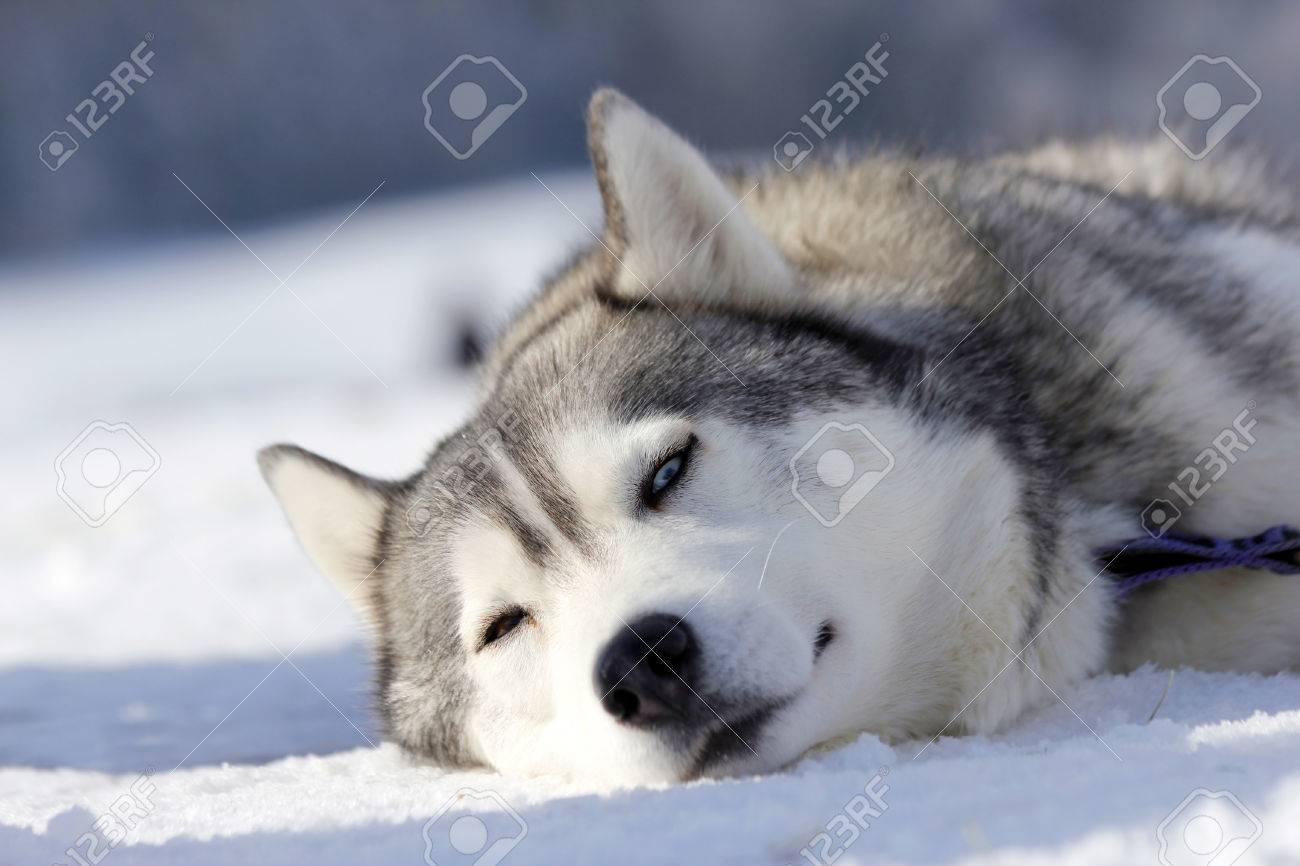husky: (270, 110, 1108, 809)
